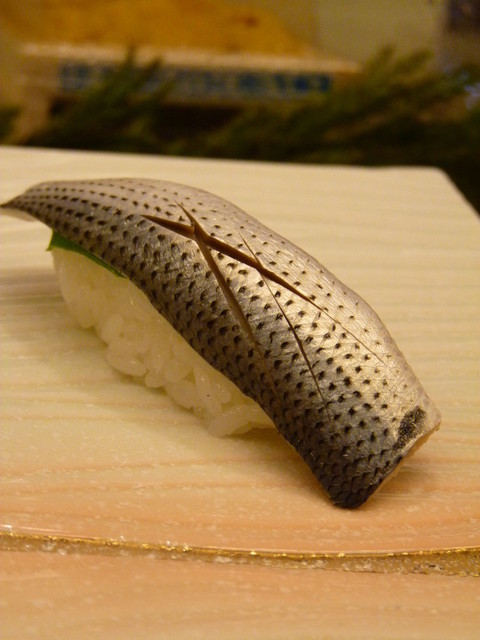spotted-shad: (1, 177, 448, 515)
